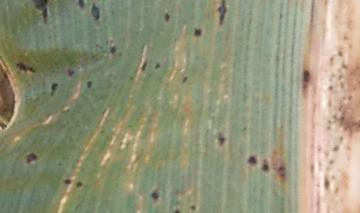tarspot: (32, 1, 49, 25), (15, 60, 35, 74), (217, 1, 227, 25), (89, 1, 100, 20), (321, 174, 331, 191), (245, 153, 258, 166), (25, 151, 38, 163), (301, 67, 310, 83), (49, 82, 59, 96), (216, 132, 226, 146), (259, 162, 270, 172), (150, 188, 159, 200), (74, 179, 84, 189), (276, 163, 286, 173), (77, 1, 86, 11), (193, 27, 202, 37), (180, 74, 189, 84), (66, 66, 74, 77), (109, 43, 117, 54), (94, 41, 103, 50), (62, 177, 72, 185), (163, 12, 171, 22), (86, 78, 93, 89), (331, 144, 340, 152), (338, 79, 346, 88), (327, 53, 335, 62), (140, 60, 147, 70), (153, 61, 160, 71), (337, 132, 344, 142), (326, 83, 334, 91), (337, 49, 344, 58), (328, 157, 335, 165), (340, 62, 348, 69), (324, 124, 332, 131), (338, 113, 345, 121), (128, 74, 135, 81), (331, 112, 338, 119), (337, 72, 344, 79), (190, 203, 196, 211), (278, 10, 283, 19), (347, 92, 352, 101), (174, 208, 181, 213)
